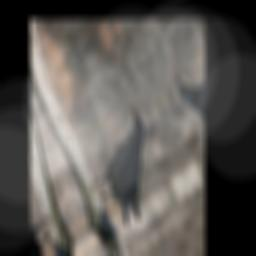Crow: (76, 101, 171, 241)
